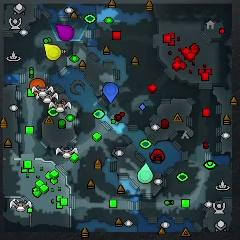p1: (103, 82, 119, 103)
p2: (138, 163, 153, 184)
p3: (55, 25, 74, 41)
p4: (44, 44, 61, 60)
p5: (29, 78, 46, 93)
